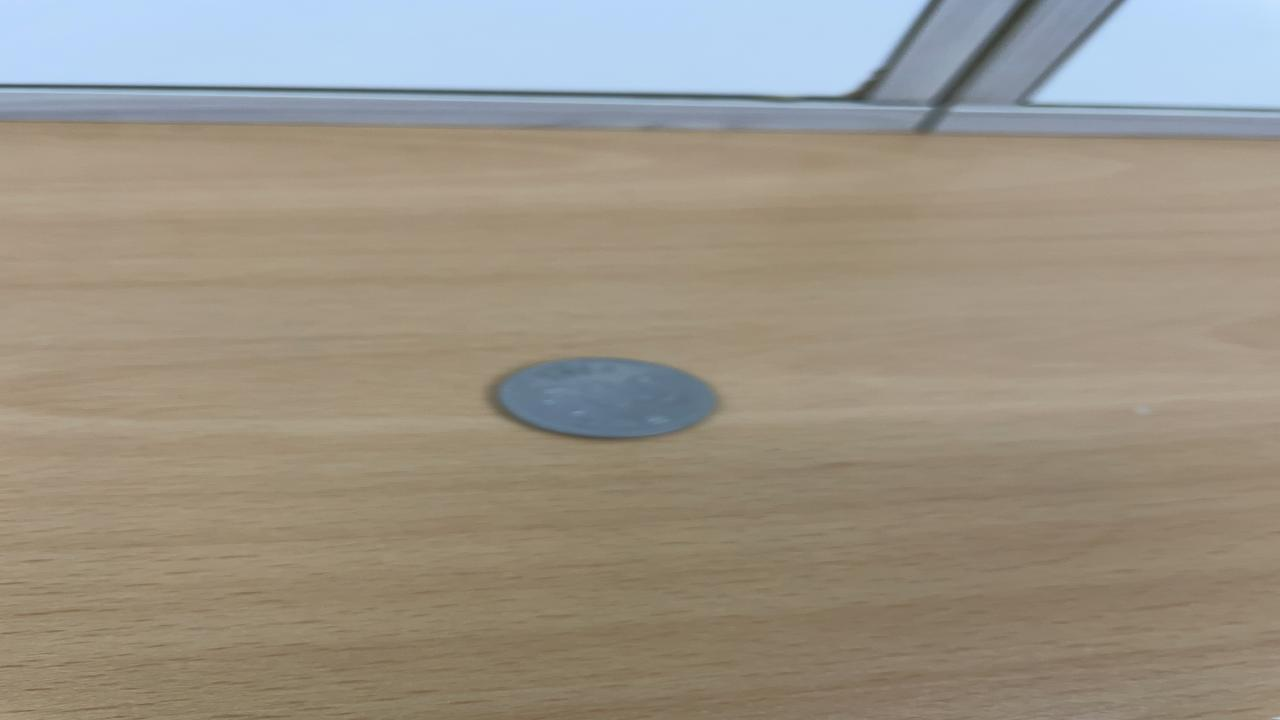coin: (490, 354, 723, 441)
